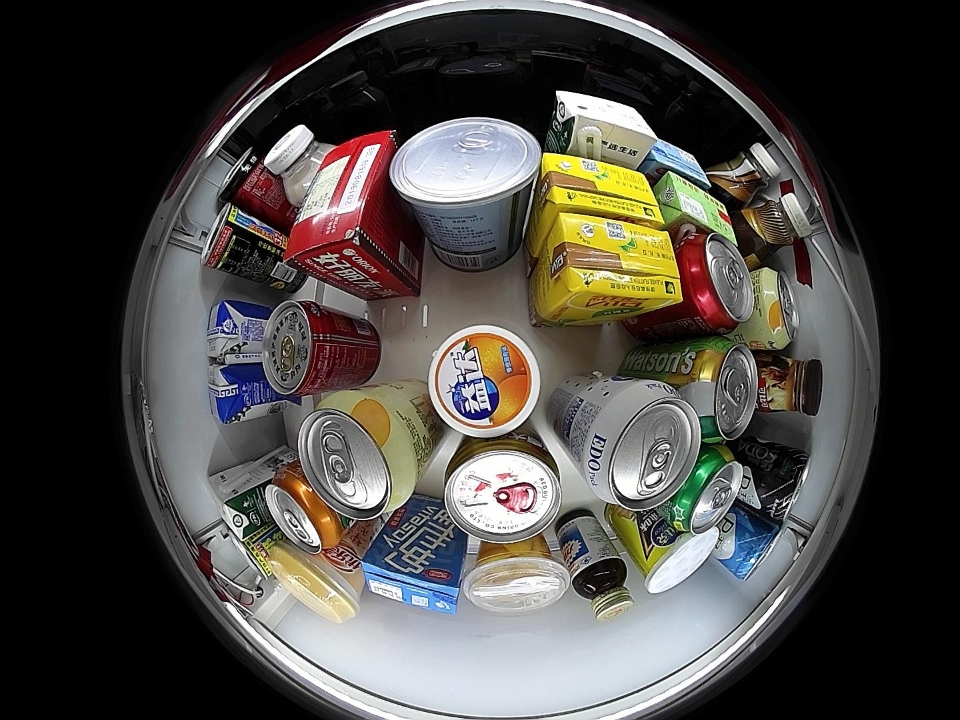anmuxi: (205, 300, 257, 364), (207, 363, 255, 424)
fenda: (265, 469, 340, 555)
haitai: (390, 117, 540, 227)
haoliyou: (285, 129, 398, 277)
hongniu: (443, 435, 563, 544)
jindian: (547, 90, 657, 164), (206, 470, 262, 541)
kafei: (739, 187, 810, 256), (712, 143, 781, 205)
kebike: (639, 526, 719, 594)
kele: (679, 234, 754, 335)
libaojian: (572, 556, 634, 621)
lingdukele: (219, 147, 272, 210)
lujikafei: (759, 354, 824, 417)
mangguoxiaolao: (298, 391, 417, 518), (754, 267, 801, 349)
qingdaowangzi-1: (754, 446, 811, 521)
qingdaowangzi-2: (720, 516, 785, 581)
quchenshixiangcao: (689, 338, 758, 442)
rusuanjunqishui: (578, 378, 700, 510)
wanglaoji: (656, 171, 738, 245)
wangzainiunai: (261, 300, 350, 397)
weitanai: (362, 544, 461, 616)
weitanaiditang: (644, 137, 712, 190)
weitaningmeng: (542, 212, 683, 317), (538, 153, 663, 226)
weiweidounai: (265, 125, 336, 199)
xianguolao: (463, 544, 571, 614)
xuebi2: (669, 447, 746, 535)
yezhi: (202, 201, 247, 271), (228, 530, 278, 579)
yida: (428, 324, 540, 439)
youlemei: (266, 544, 361, 624)
